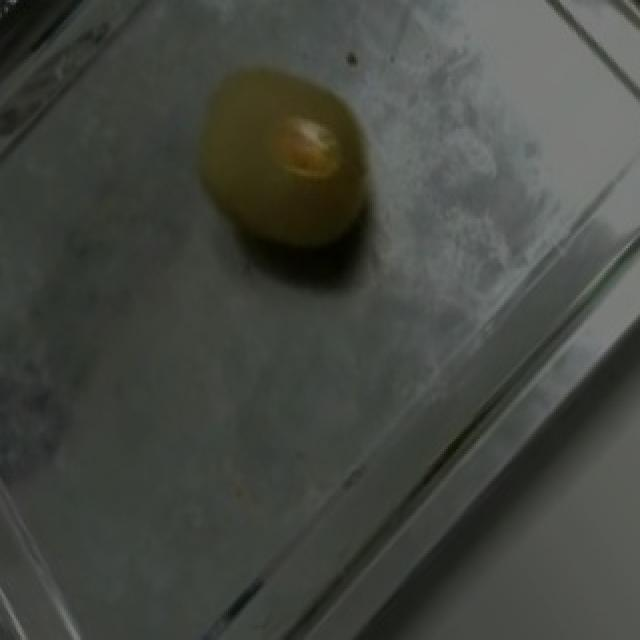Fruit: (148, 30, 416, 312)
